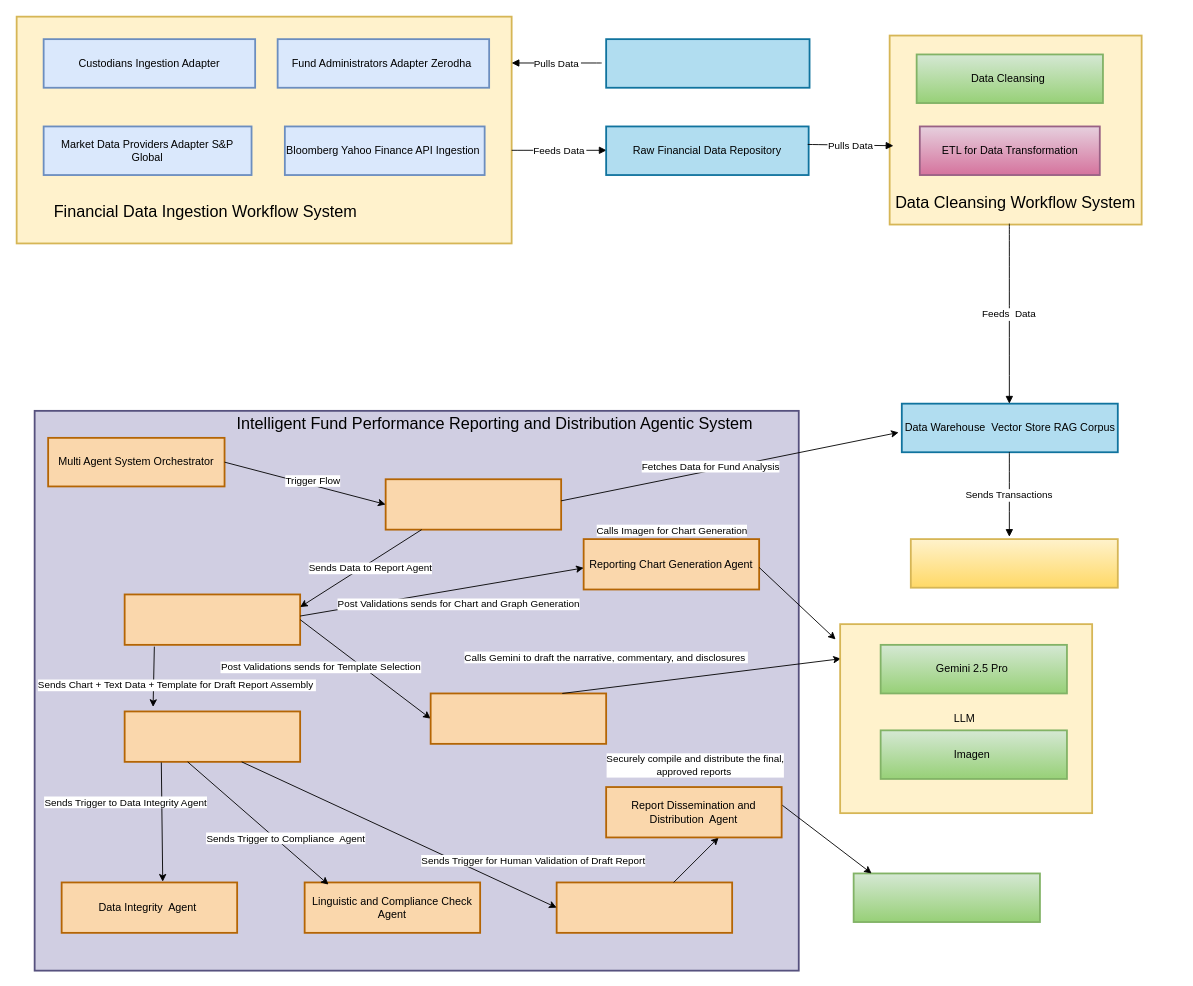
Some shapes in this 1193 by 986 pixel diagram are drawn without their labels. The centre of each missing label's shape, as x and y in pixels:
"Assembly Engine Agent" belongs at point (212, 736).
"Cloud Bucket for final report" belongs at point (946, 897).
"Data Aggregation Agent" belongs at point (473, 504).
"Escalation & Human-in-the-Loop Agent" belongs at point (644, 907).
"Report Content Generator Agent" belongs at point (212, 619).
"Reporting Template Selector Agent" belongs at point (518, 718).
"Transaction Log" belongs at point (1013, 563).
"Upstream Internet Data Sources" belongs at point (707, 63).
